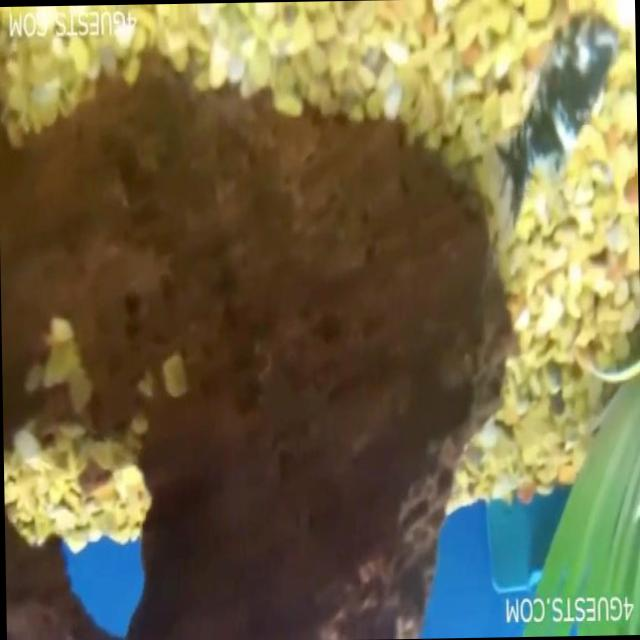PlatyFish: (462, 0, 636, 327)
